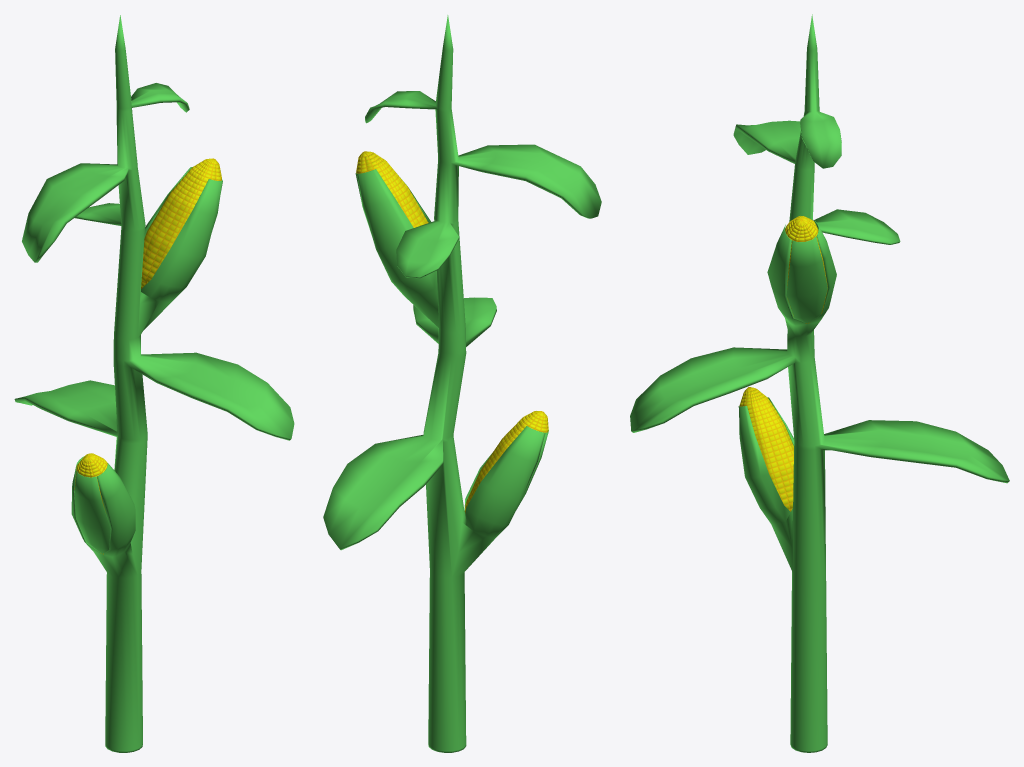
File: Stage3.fbx
3 views of the same model, side by side, from view 1: azimuth 30°, elevation 25°; view 2: azimuth 150°, elevation 25°; view 3: azimuth 270°, elevation 25° (orthographic).
Visible parts, largest first — view 1: Stage3; view 2: Stage3; view 3: Stage3.
Boxes of the visible parts, box(x1,y1,x2,y2) form: Stage3: box(14, 15, 294, 752); Stage3: box(323, 15, 601, 752); Stage3: box(630, 14, 1009, 752).
Size of the model in its own units: 39.62 by 130 by 61.33.
